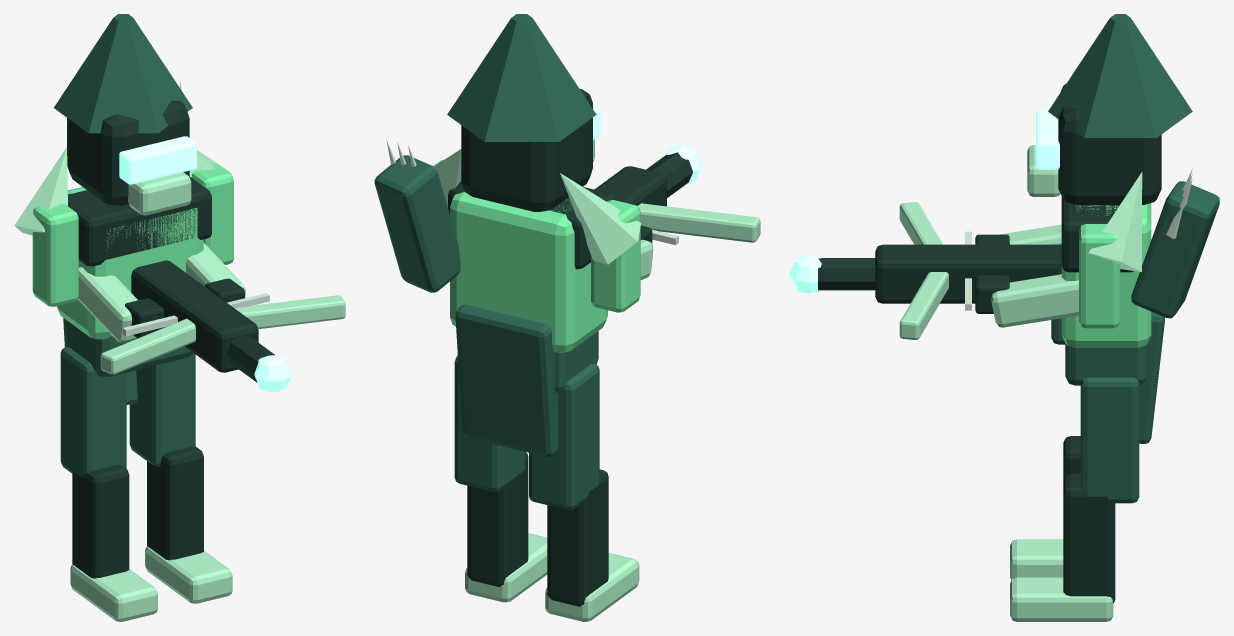
Rendered from SM_Schuetze.glb.
3 renders of one model, left to right at view 1: azimuth 30°, elevation 25°; view 2: azimuth 150°, elevation 25°; view 3: azimuth 270°, elevation 25°, orthographic. The views are drawn at different scales.
Parts seen in each view (by area): view 1: SM_Schuetze; view 2: SM_Schuetze; view 3: SM_Schuetze.
Boxes of the visible parts, x1=… form: SM_Schuetze: x1=14, y1=14, x2=345, y2=621; SM_Schuetze: x1=374, y1=14, x2=760, y2=621; SM_Schuetze: x1=789, y1=14, x2=1219, y2=621.
Size of what is drawn, in the model's own units: 0.8366 by 1.85 by 1.25.
